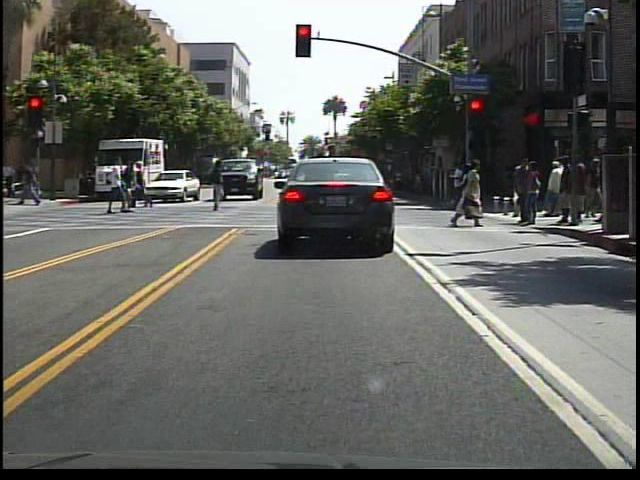person: (308, 127, 346, 238), (450, 160, 492, 232), (206, 159, 234, 216), (104, 157, 127, 220), (17, 161, 46, 210), (548, 152, 567, 224), (131, 159, 152, 213), (123, 163, 142, 215)
